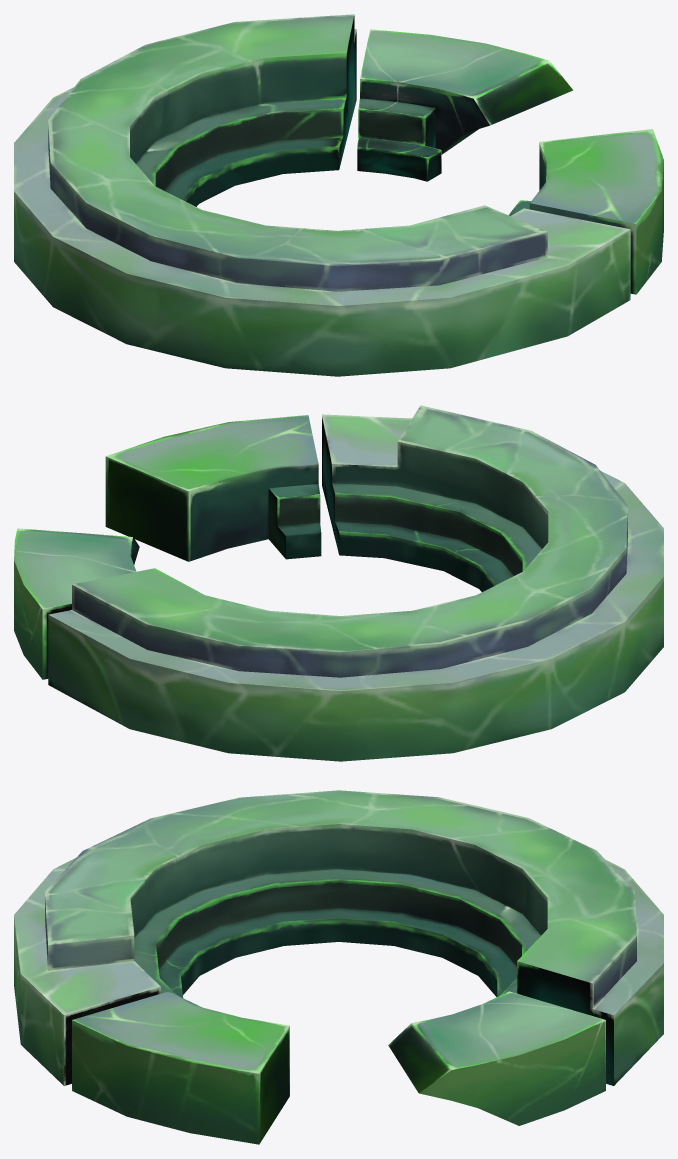
File: zhanxingtai_6.FBX
3 renders of one model, top to bottom at view 1: azimuth 30°, elevation 25°; view 2: azimuth 150°, elevation 25°; view 3: azimuth 270°, elevation 25°, orthographic.
Visible parts, largest first — view 1: zhanxingtai_6; view 2: zhanxingtai_6; view 3: zhanxingtai_6.
Part boxes in pixels (bbox=[...]): zhanxingtai_6: bbox=[14, 14, 663, 376]; zhanxingtai_6: bbox=[14, 405, 663, 761]; zhanxingtai_6: bbox=[14, 790, 663, 1144].
Bounding box in the file's own units: 74.01 × 12.13 × 74.12.
